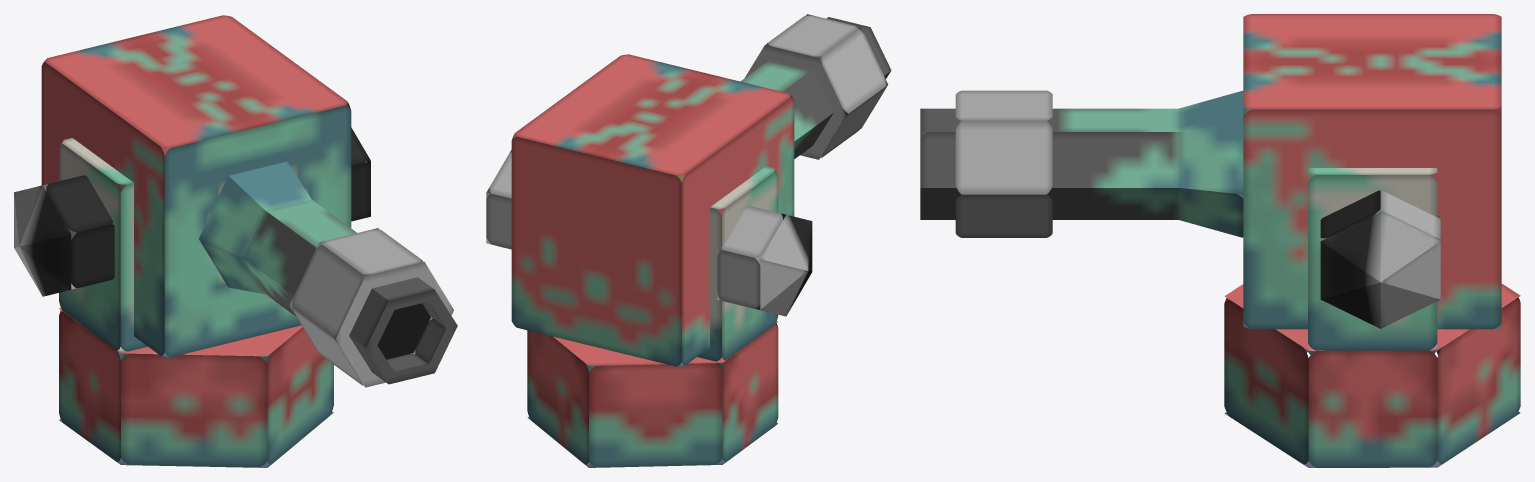
The model's file is Turret_Head.fbx.
3 views of the same model, side by side, from view 1: azimuth 30°, elevation 25°; view 2: azimuth 150°, elevation 25°; view 3: azimuth 270°, elevation 25° (orthographic). The views are drawn at different scales.
Visible parts, largest first — view 1: cuboid_1, cylinder, cylinder_1, cylinder_2, sphere_1, cuboid, sphere; view 2: cuboid_1, cylinder, cylinder_2, sphere_1, cuboid, cylinder_1, sphere; view 3: cuboid_1, cylinder, cylinder_1, cylinder_2, sphere, cuboid.
Part boxes in pixels (left/top/right/bottom): cuboid_1: left=41, top=15, right=351, bottom=357; cylinder: left=59, top=307, right=333, bottom=467; cylinder_1: left=199, top=161, right=457, bottom=384; cylinder_2: left=289, top=228, right=453, bottom=387; sphere_1: left=14, top=175, right=114, bottom=296; cuboid: left=59, top=138, right=147, bottom=351; sphere: left=351, top=127, right=370, bottom=221; cuboid_1: left=511, top=54, right=794, bottom=366; cylinder: left=527, top=321, right=778, bottom=467; cylinder_2: left=745, top=14, right=888, bottom=159; sphere_1: left=717, top=205, right=812, bottom=316; cuboid: left=697, top=166, right=778, bottom=361; cylinder_1: left=740, top=17, right=891, bottom=158; sphere: left=486, top=150, right=511, bottom=249; cuboid_1: left=1243, top=14, right=1501, bottom=329; cylinder: left=1224, top=284, right=1520, bottom=467; cylinder_1: left=920, top=90, right=1243, bottom=237; cylinder_2: left=955, top=90, right=1052, bottom=237; sphere: left=1320, top=190, right=1440, bottom=328; cuboid: left=1308, top=168, right=1437, bottom=350.
Bounding box in the file's own units: 40.62 × 37.5 × 58.08.
Materials: 1 (1 with a texture image).
